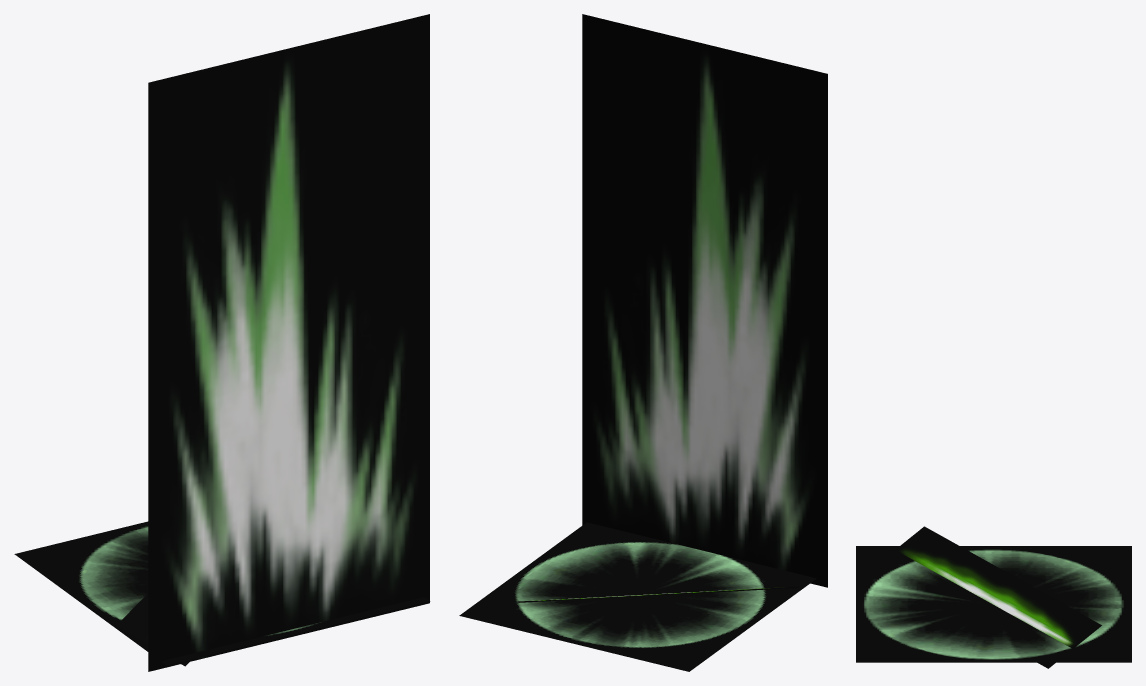
Rendered from effect_xuhuang_2.FBX.
3 renders of one model, left to right at view 1: azimuth 30°, elevation 25°; view 2: azimuth 150°, elevation 25°; view 3: azimuth 270°, elevation 25°, orthographic. The views are drawn at different scales.
Visible parts, largest first — view 1: effect_xuhuang_6, effect_xuhuang_4, effect_xuhuang_5; view 2: effect_xuhuang_6, effect_xuhuang_4, effect_xuhuang_5; view 3: effect_xuhuang_4, effect_xuhuang_5.
Boxes of the visible parts, left/top/right/bottom form: effect_xuhuang_6: left=148, top=14, right=429, bottom=671; effect_xuhuang_4: left=14, top=521, right=430, bottom=665; effect_xuhuang_5: left=116, top=593, right=189, bottom=666; effect_xuhuang_6: left=582, top=14, right=827, bottom=587; effect_xuhuang_4: left=459, top=522, right=816, bottom=671; effect_xuhuang_5: left=515, top=586, right=799, bottom=602; effect_xuhuang_4: left=856, top=546, right=1131, bottom=662; effect_xuhuang_5: left=895, top=526, right=1101, bottom=668.
Size of the model in its own units: 128 by 258 by 120.
3 materials, 3 textured.
